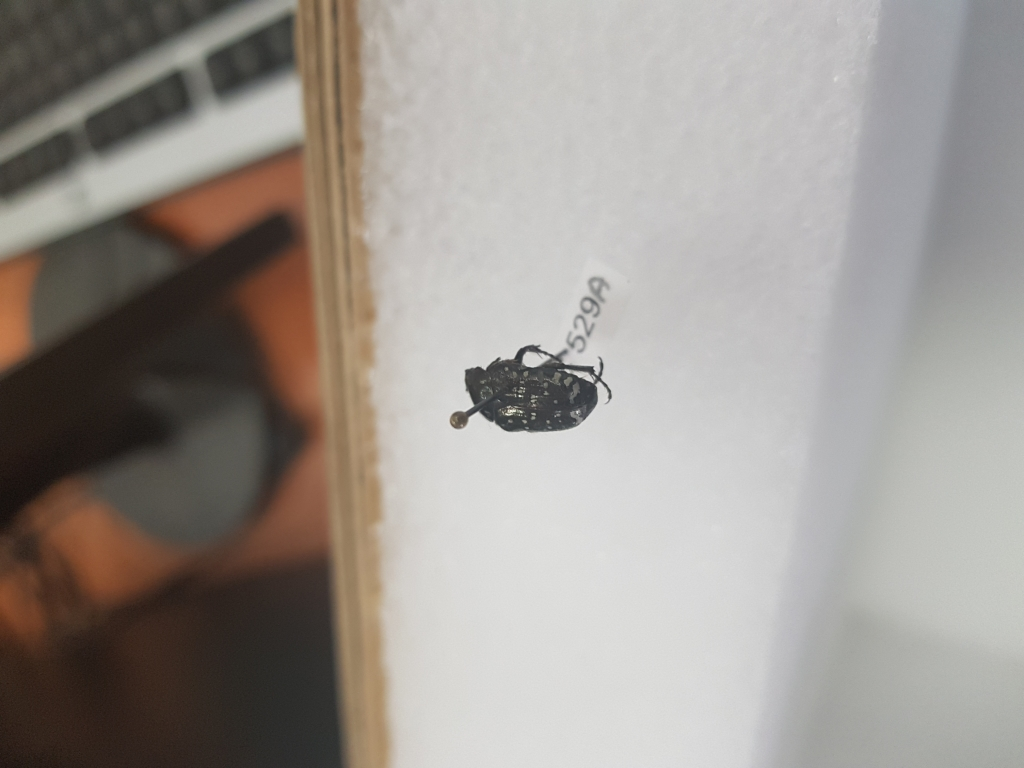Oxythyrea_funesta: (466, 341, 613, 431)
